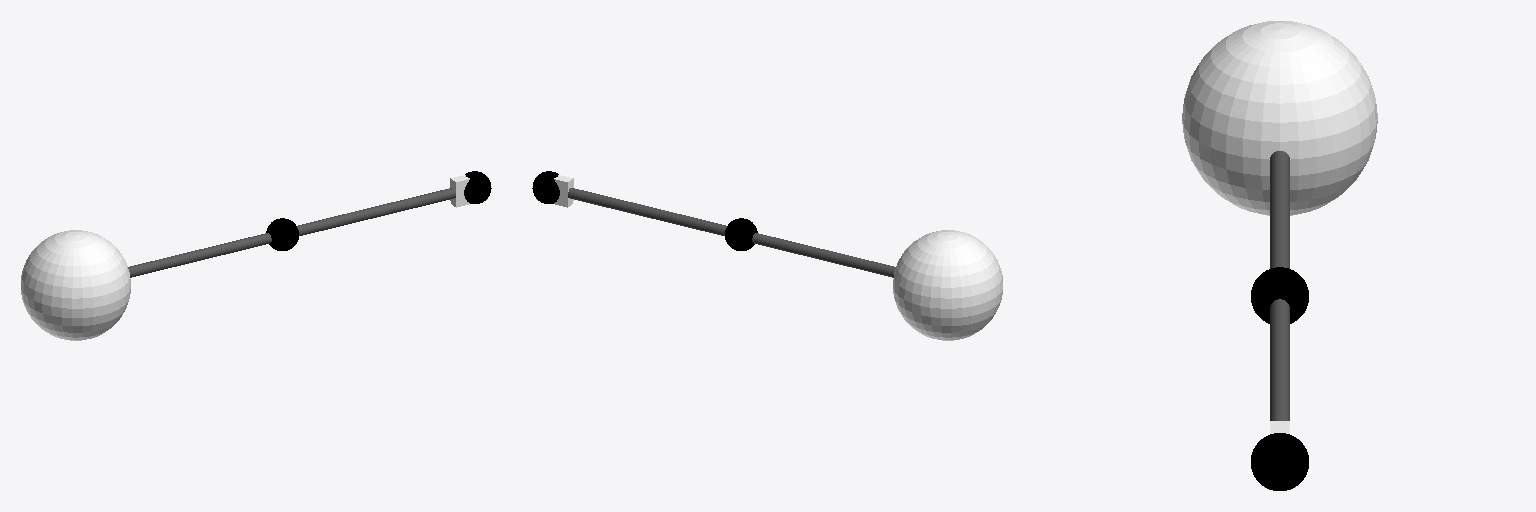
robot.urdf — triple_pendulum_modified:
<robot name="triple_pendulum_modified">

    <!-- ================= MATERIALS ================= -->
    <material name="black">
        <color rgba="0 0 0 1"/>
    </material>
    <material name="white">
        <color rgba="1 1 1 1"/>
    </material>
    <material name="gray">
        <color rgba="0.4 0.4 0.4 1"/>
    </material>

    <!-- ================= LINKS ================= -->
    <link name="world"/>

    <link name="base">
        <visual>
            <geometry>
                <sphere radius="0.1"/>
            </geometry>
            <material name="white"/>
        </visual>
    </link>

    <!-- ===== LINK 1 ===== -->
    <link name="link_1">
        <visual>
            <geometry>
                <cylinder radius="0.01" length="0.4"/>
            </geometry>
            <origin xyz="0 0 0.2"/>
            <material name="gray"/>
        </visual>
    </link>

    <!-- ===== LINK 2 ===== -->
    <link name="link_2">
        <visual>
            <geometry>
                <cylinder radius="0.01" length="0.4"/>
            </geometry>
            <origin xyz="0 0 0.2"/>
            <material name="gray"/>
        </visual>
    </link>

    <!-- ===== ROTATION LINK (NO LENGTH) ===== -->
    <link name="link_3">
        <visual>
            <geometry>
                <sphere radius="0.01"/>
            </geometry>
            <material name="gray"/>
        </visual>
    </link>

    <!-- ===== END EFFECTORS (MASS POINTS) ===== -->
    <link name="link_eef_1">
        <visual>
            <geometry>
                <sphere radius="0.03"/>
            </geometry>
            <origin xyz="0 0 0.03"/>
            <material name="black"/>
        </visual>
    </link>

    <link name="link_eef_2">
        <visual>
            <geometry>
                <sphere radius="0.03"/>
            </geometry>
            <origin xyz="0 0 0.03"/>
            <material name="black"/>
        </visual>
    </link>

    <!-- ===== CAMERA ===== -->
    <link name="camera_link">
        <visual>
            <geometry>
                <box size="0.05 0.03 0.02"/>
            </geometry>
            <material name="white"/>
        </visual>
    </link>

    <!-- ================= JOINTS ================= -->

    <joint name="world_to_base" type="fixed">
        <parent link="world"/>
        <child link="base"/>
        <origin xyz="0 0 3"/>
    </joint>

    <!-- ===== JOINT 1 ===== -->
    <joint name="joint_1" type="revolute">
        <parent link="base"/>
        <child link="link_1"/>
        <origin rpy="0 1.57 0"/>
        <axis xyz="0 1 0"/>
        <limit lower="-3.14" upper="3.14" effort="100" velocity="10"/>
        <dynamics damping="0.001"/>
    </joint>

    <joint name="eef_joint_1" type="fixed">
        <parent link="link_1"/>
        <child link="link_eef_1"/>
        <origin xyz="0 0 0.4"/>
    </joint>

    <!-- ===== JOINT 2 ===== -->
    <joint name="joint_2" type="revolute">
        <parent link="link_eef_1"/>
        <child link="link_2"/>
        <origin rpy="0 0 0"/>
        <axis xyz="0 -1 0"/>
        <limit lower="-3.14" upper="3.14" effort="100" velocity="10"/>
        <dynamics damping="0.001"/>
    </joint>

    <joint name="eef_joint_2" type="fixed">
        <parent link="link_2"/>
        <child link="link_eef_2"/>
        <origin xyz="0 0 0.4"/>
    </joint>

    <!-- ===== JOINT 3 (ROTATION ONLY) ===== -->
    <joint name="joint_3" type="revolute">
        <parent link="link_eef_2"/>
        <child link="link_3"/>
        <origin xyz="0 0 0"/>
        <axis xyz="0 -1 0"/>
        <limit lower="-3.14" upper="3.14" effort="100" velocity="10"/>
        <dynamics damping="0.001"/>
    </joint>

    <!-- ===== CAMERA MOUNT (NO OFFSET) ===== -->
    <joint name="camera_joint" type="fixed">
        <parent link="link_3"/>
        <child link="camera_link"/>
        <origin xyz="0 0 0" rpy="1.57079632679 3.14159265359 3.14159265359"/>
    </joint>

</robot>

--- Facts derived from the render (not from the file) ---
The picture shows the robot from 3 angles, left to right: view 1: azimuth 30°, elevation 25°; view 2: azimuth 150°, elevation 25°; view 3: azimuth 270°, elevation 25°; orthographic projection.
Robot: triple_pendulum_modified — 8 links, 7 joints (3 revolute, 4 fixed); root link world; default pose: all joints at 0.
Visible links, largest first — view 1: base, link_2, link_1, link_eef_1, link_eef_2; view 2: base, link_2, link_1, link_eef_1, link_eef_2; view 3: base, link_eef_2, link_2, link_1, link_eef_1.
Boxes of the visible links, box(x1,y1,x2,y2) form: base: box(21, 230, 130, 340); link_2: box(268, 188, 455, 241); link_1: box(128, 233, 270, 277); link_eef_1: box(266, 218, 298, 250); link_eef_2: box(464, 171, 491, 203); base: box(893, 230, 1002, 340); link_2: box(568, 188, 755, 241); link_1: box(753, 233, 895, 277); link_eef_1: box(725, 218, 757, 250); link_eef_2: box(532, 171, 559, 203); base: box(1182, 21, 1377, 215); link_eef_2: box(1251, 433, 1308, 490); link_2: box(1270, 299, 1289, 420); link_1: box(1270, 151, 1289, 268); link_eef_1: box(1251, 267, 1308, 323).
Size in the robot's own frame: 0.96 by 0.2 by 0.2 metres.
Geometry: primitives only (box / cylinder / sphere), no mesh files.
